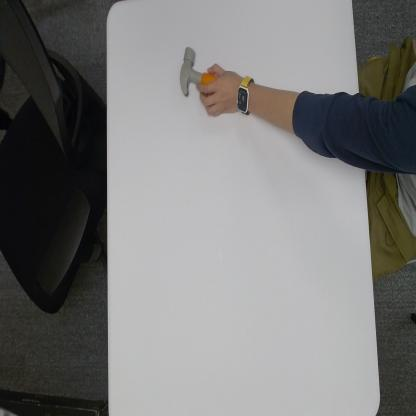Arm: (252, 80, 360, 167)
Hammer: (180, 46, 216, 98)
Hand: (199, 60, 237, 117)
